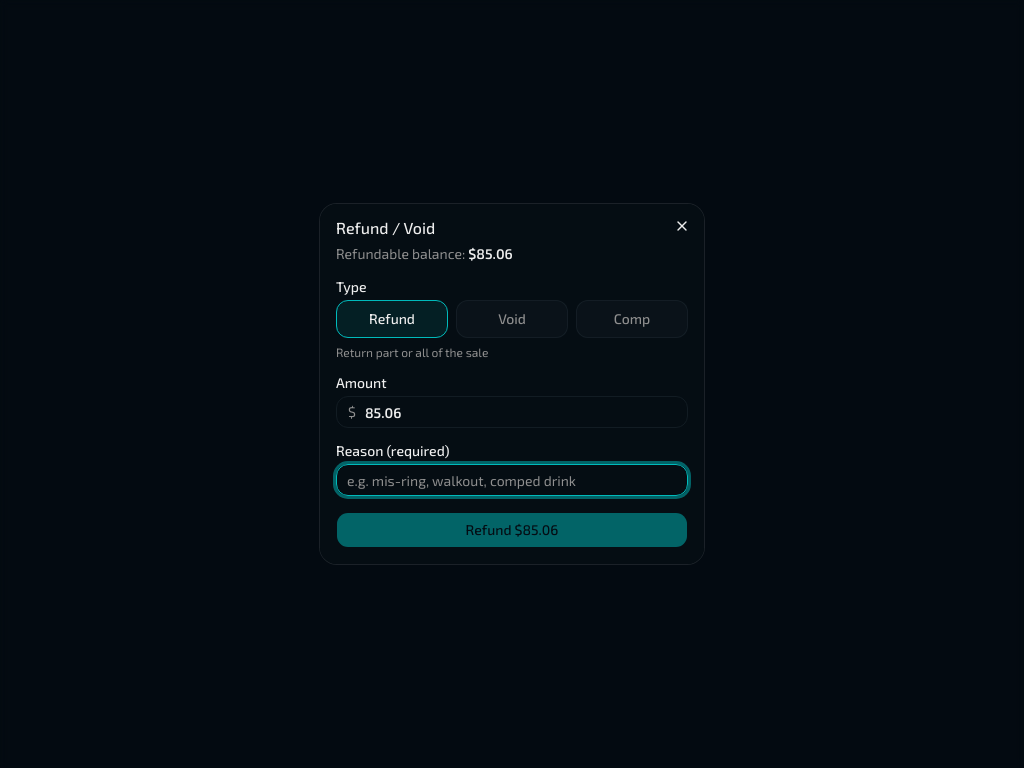
Test: RefundDialog › keeps submit disabled until a non-empty reason is entered
The image size is (1024, 768).
Expected: the button "Refund $85.06" is disabled, x1=336 y1=512 x2=688 y2=548
Type "mis-ring" into the field labelled "Reason (required)" at (512,480), box x1=336 y1=464 x2=688 y2=496
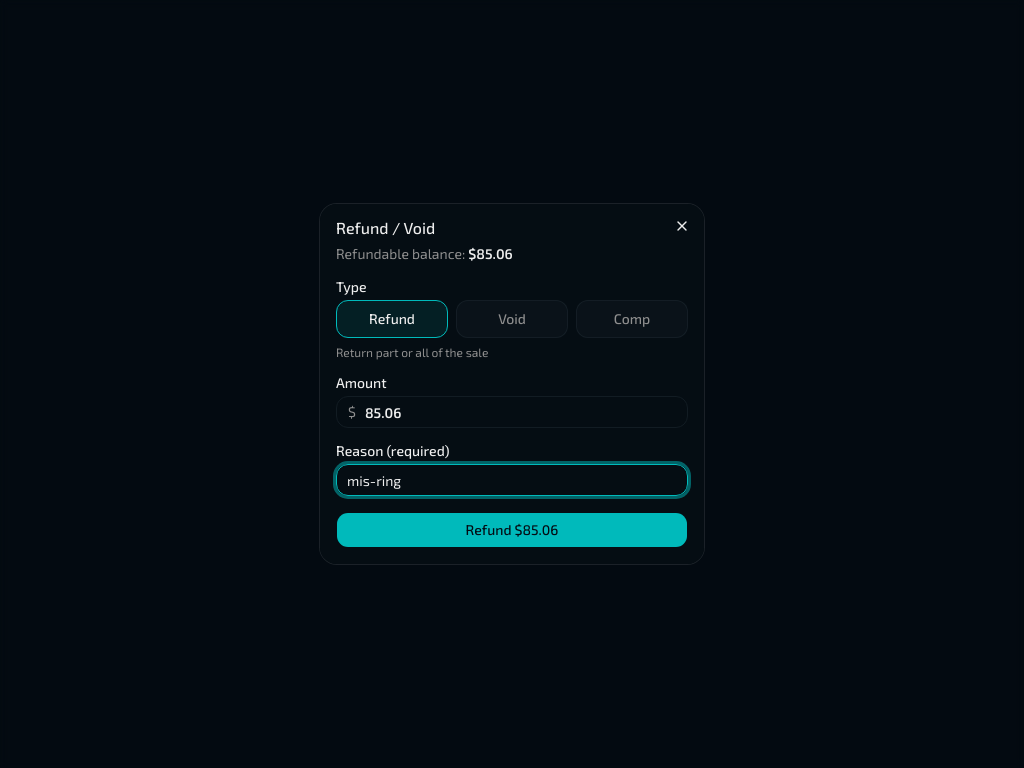
Expected: the button "Refund $85.06" is enabled, x1=336 y1=512 x2=688 y2=548
Clear the field labelled "Reason (required)" at (512,480), box x1=336 y1=464 x2=688 y2=496
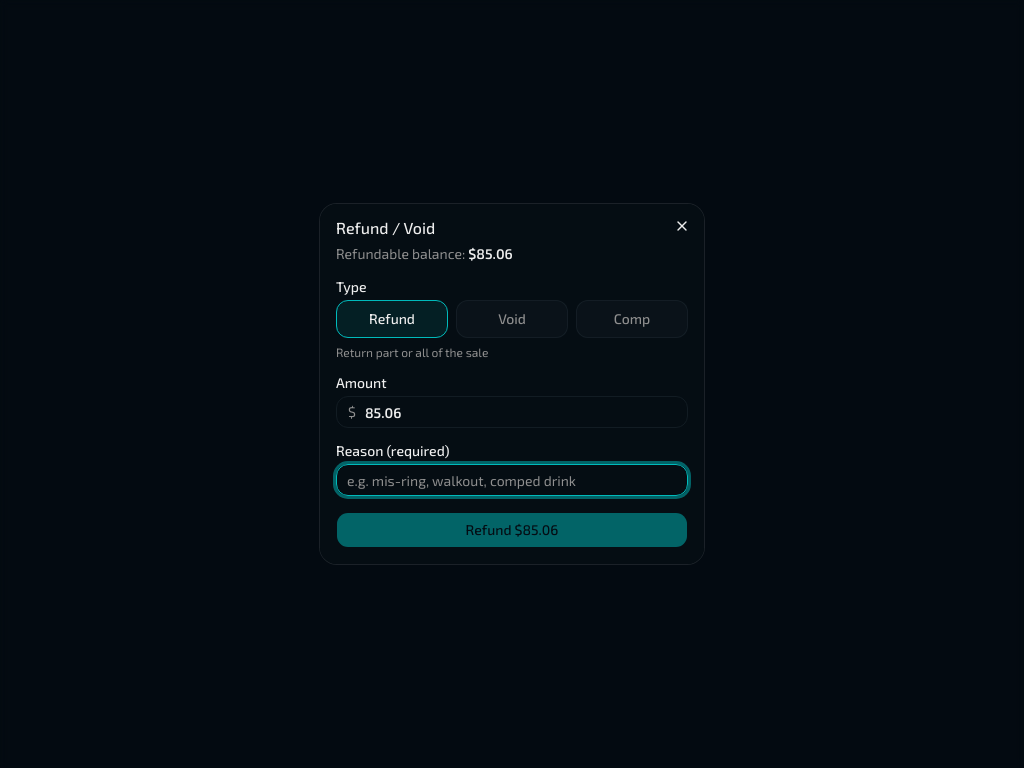
Expected: the button "Refund $85.06" is disabled, x1=336 y1=512 x2=688 y2=548
